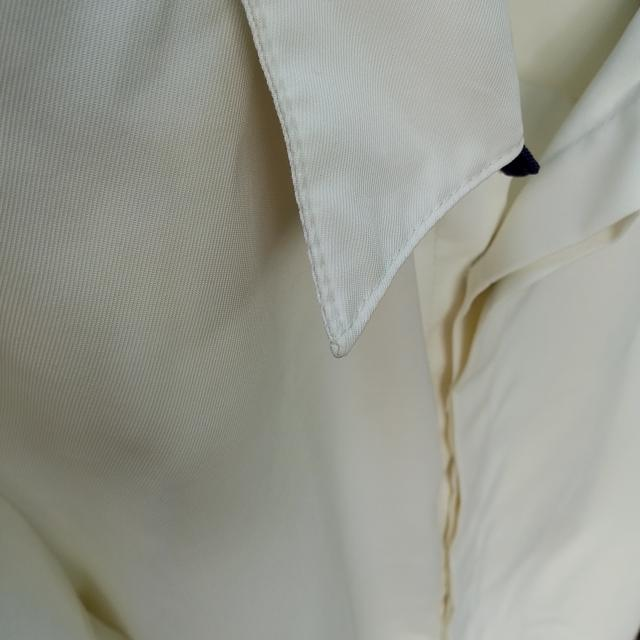education_male_uniform: (128, 0, 640, 452)
